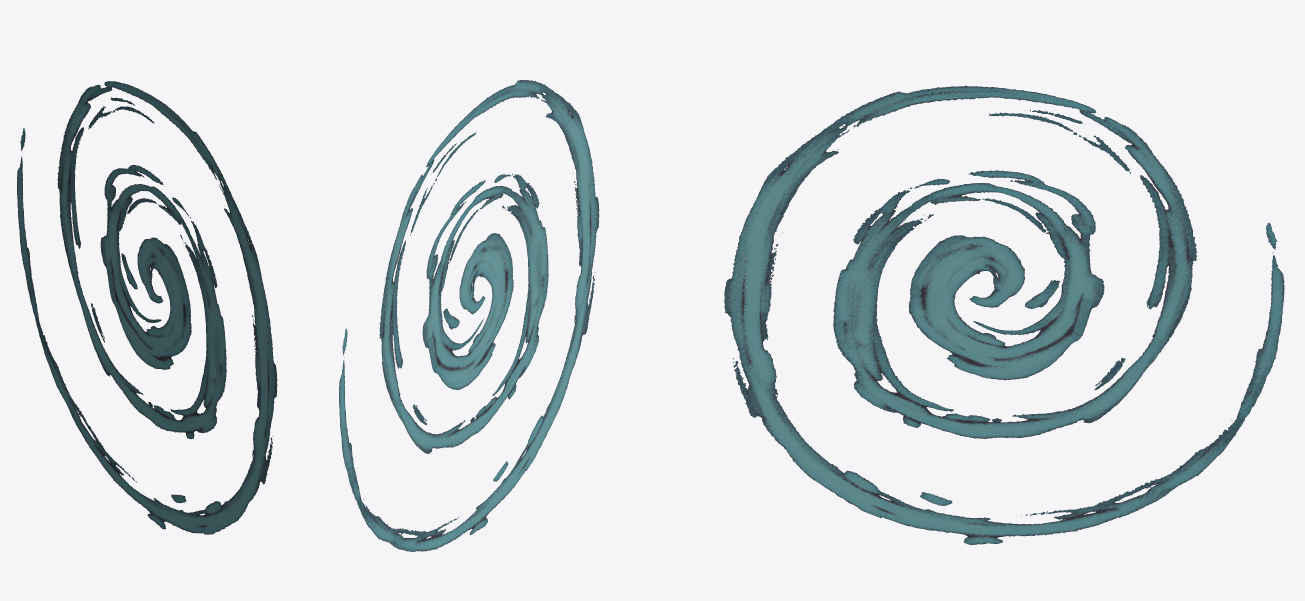
File: swirl.fbx
3 renders of one model, left to right at view 1: azimuth 30°, elevation 25°; view 2: azimuth 150°, elevation 25°; view 3: azimuth 270°, elevation 25°, orthographic. The views are drawn at different scales.
Parts seen in each view (by area): view 1: pCylinder1; view 2: pCylinder1; view 3: pCylinder1.
Boxes of the visible parts, box(x1,y1,x2,y2) form: pCylinder1: box(17, 81, 277, 534); pCylinder1: box(339, 79, 599, 551); pCylinder1: box(724, 85, 1284, 544).
Bounding box in the file's own units: 5.55e-16 × 2 × 2.
Materials: 1 (1 with a texture image).
